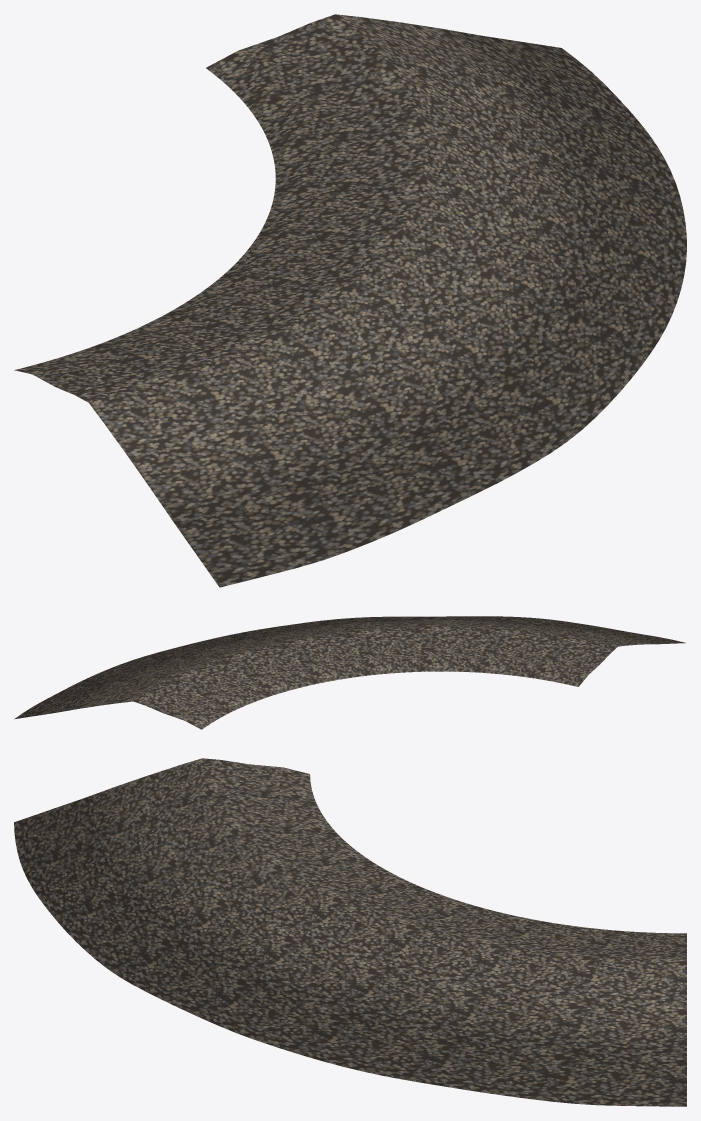
File: beach_shingle_outer_v5_autumn.glb
The picture shows the model from 3 angles, top to bottom: view 1: azimuth 30°, elevation 25°; view 2: azimuth 150°, elevation 25°; view 3: azimuth 270°, elevation 25°; orthographic projection. The views are drawn at different scales.
Parts seen in each view (by area): view 1: beach_shingle_outer; view 2: beach_shingle_outer; view 3: beach_shingle_outer.
Boxes of the visible parts, x1,y1,x2,y2 form: beach_shingle_outer: (14, 14, 686, 587); beach_shingle_outer: (14, 616, 685, 729); beach_shingle_outer: (14, 758, 686, 1106).
Bounding box in the file's own units: 10 × 1.1 × 10.
1 material, 1 textured.
